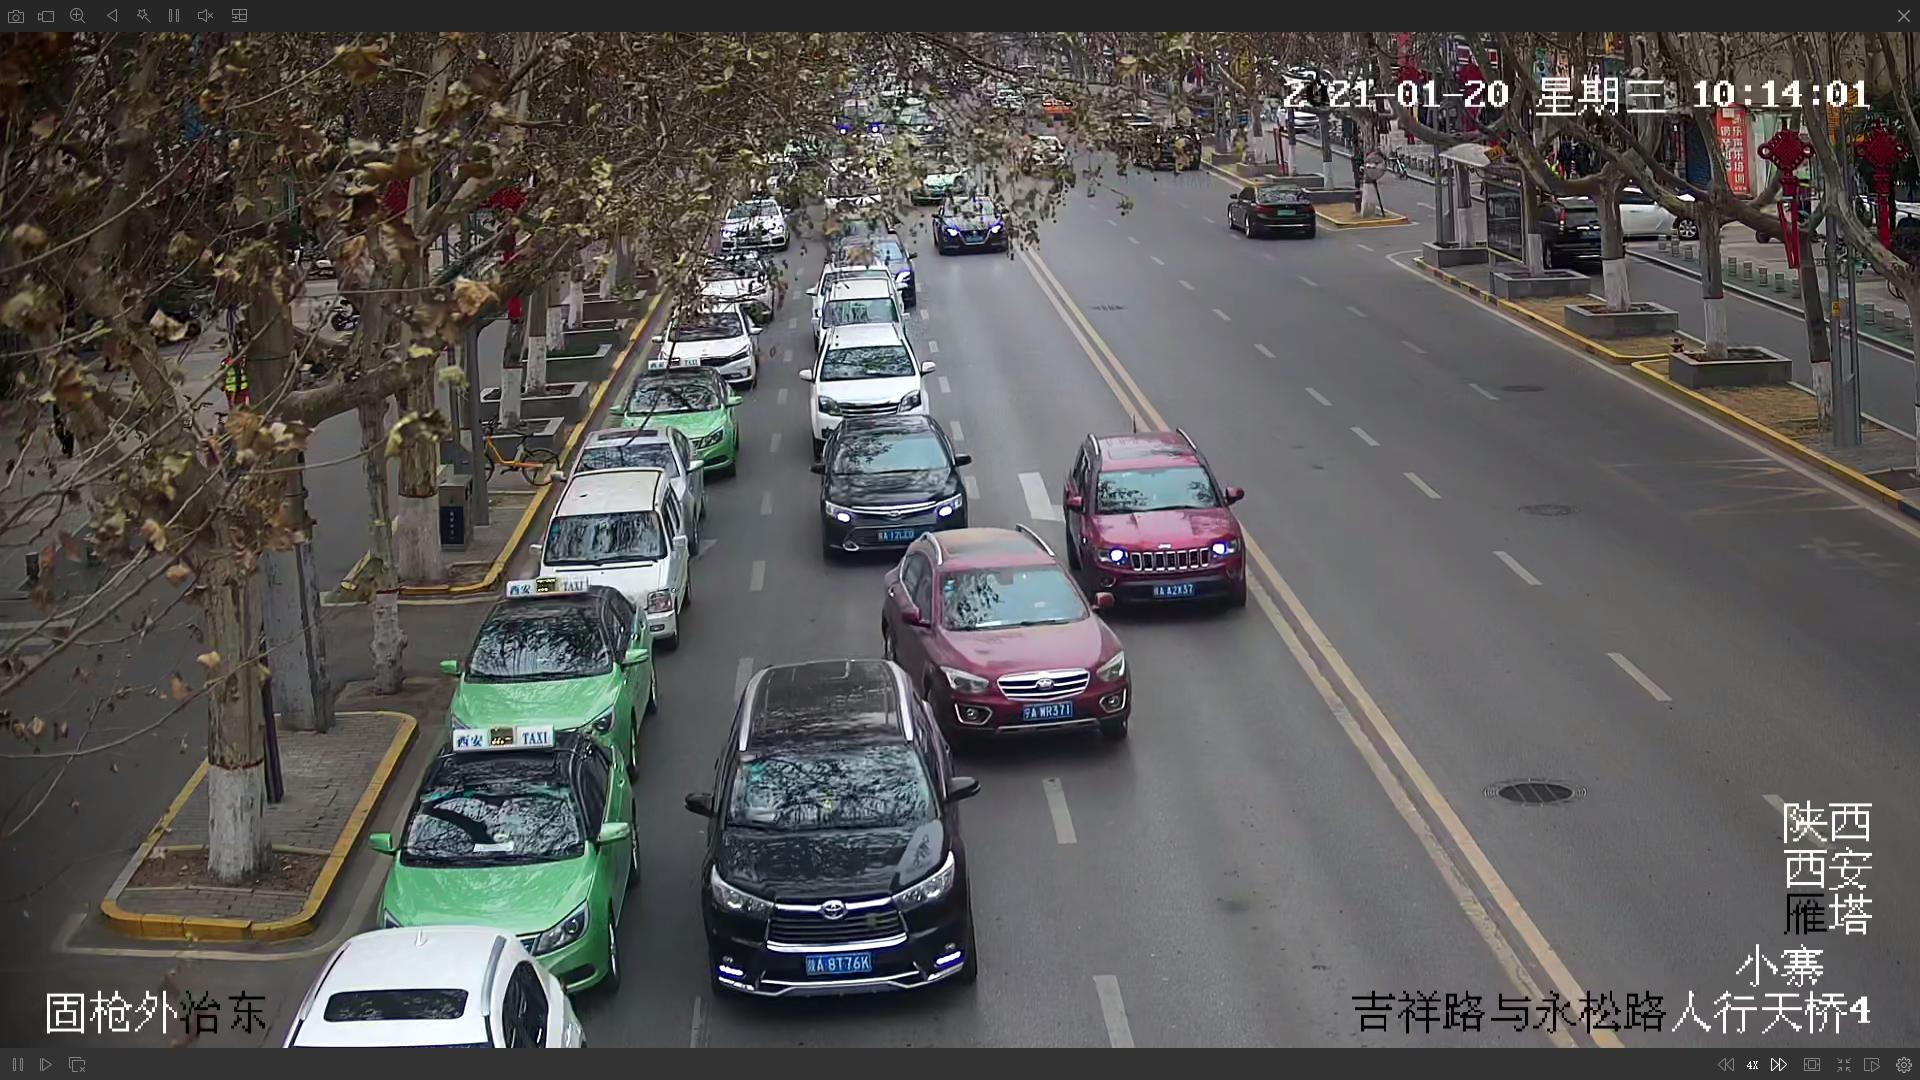black: (698, 658, 986, 1007)
dark-red: (891, 527, 1129, 748), (1072, 429, 1245, 605)
grass-green: (378, 731, 633, 985)
